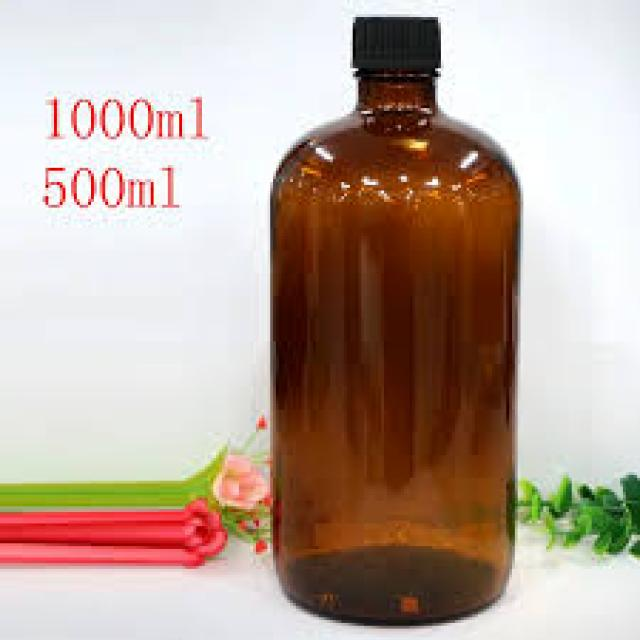Glass: (268, 12, 524, 633)
